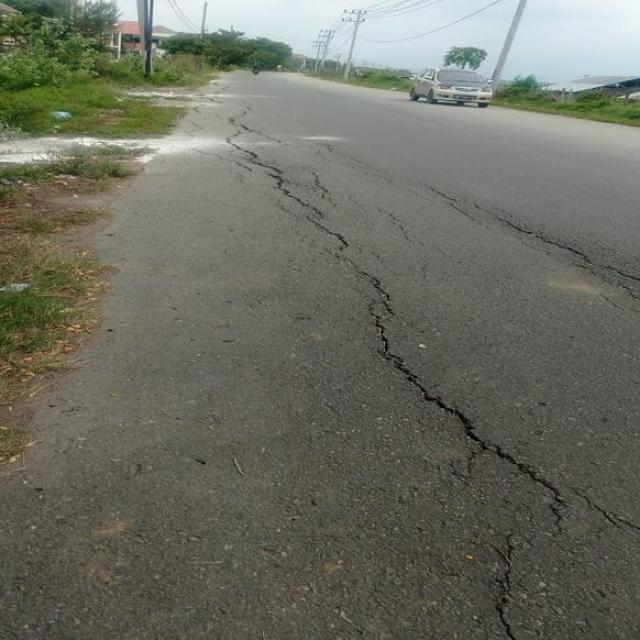Memanjang: (220, 134, 577, 640)
